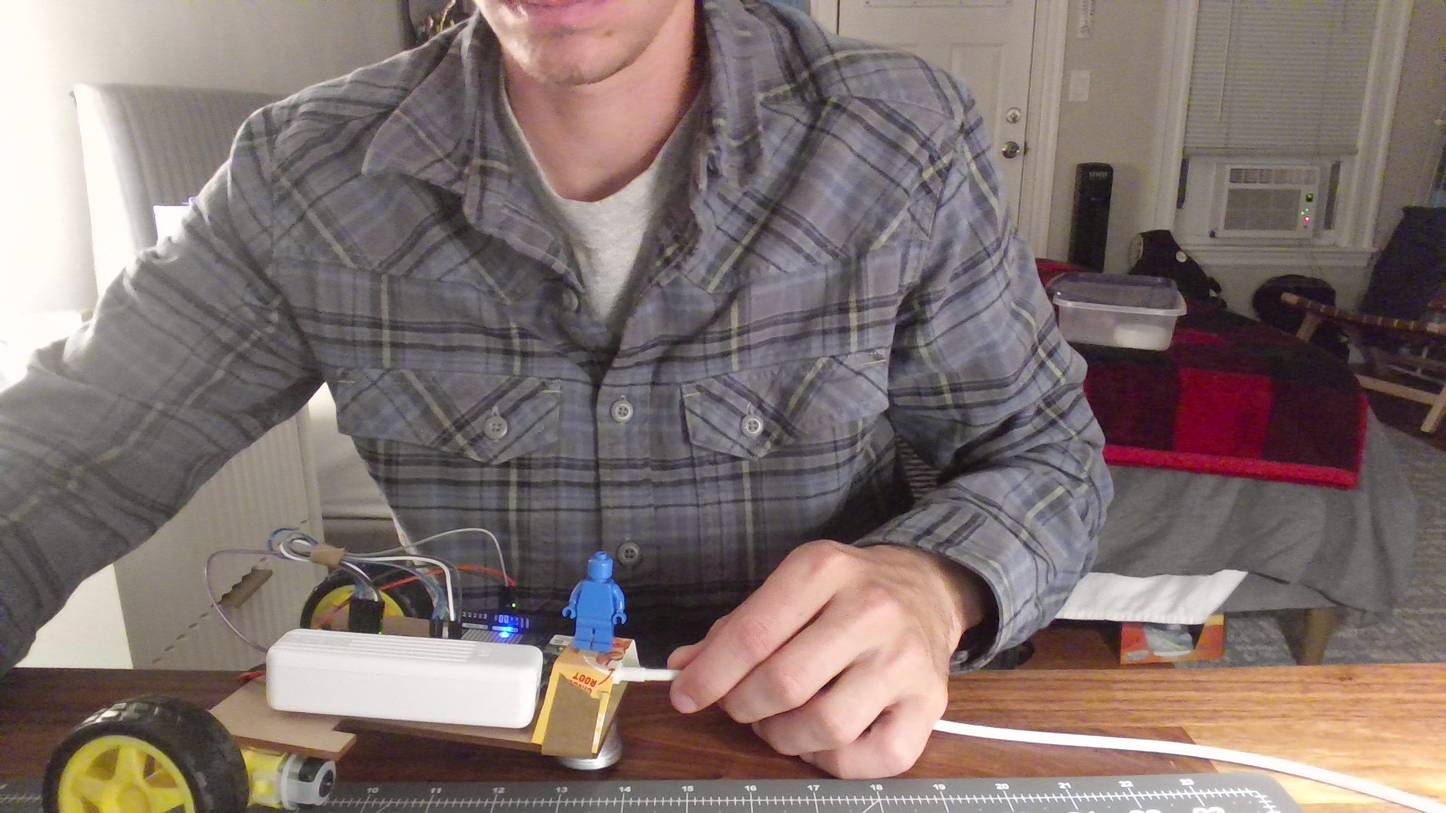Training-dataset-2: (552, 546, 648, 678)
